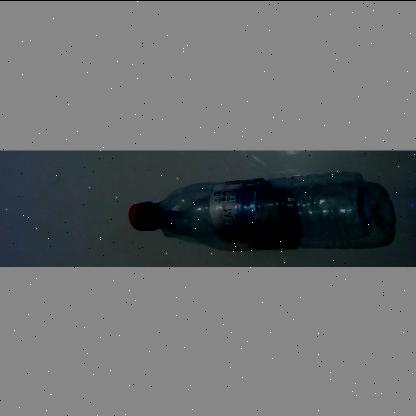Plastic Bottle: (129, 170, 396, 250)
